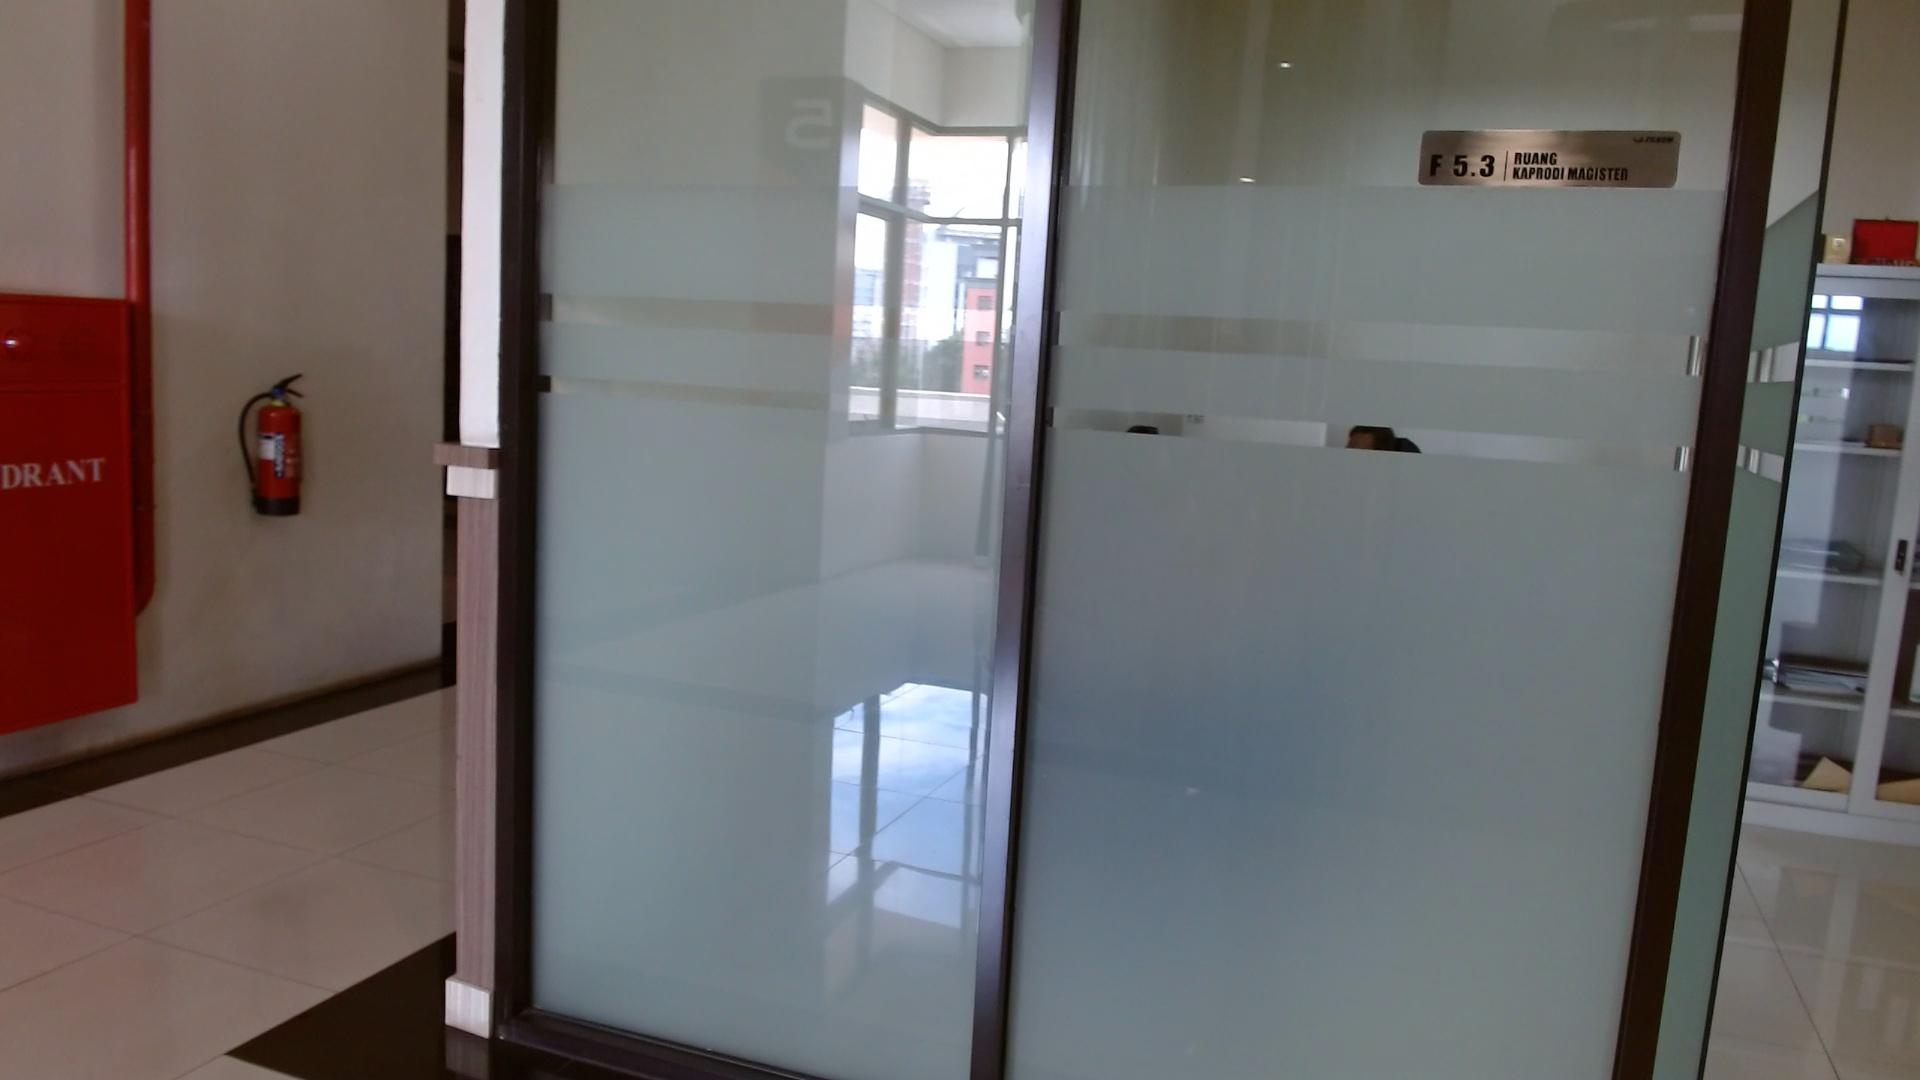plate: (1418, 129, 1681, 187)
